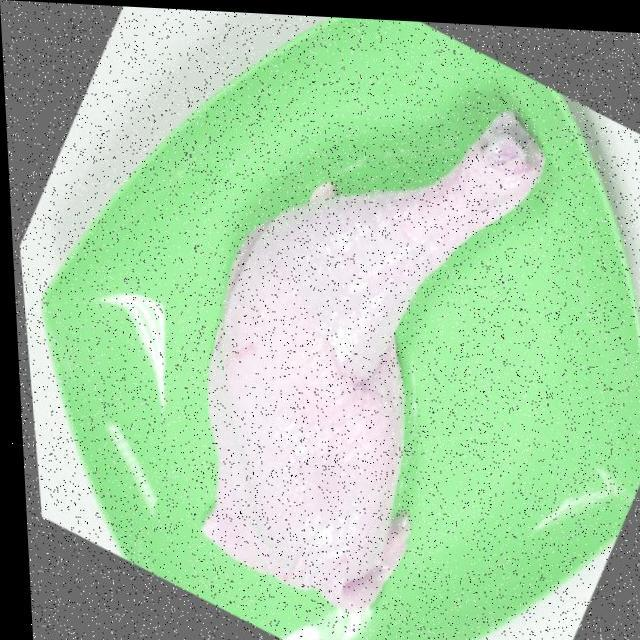quater: (143, 92, 576, 578)
